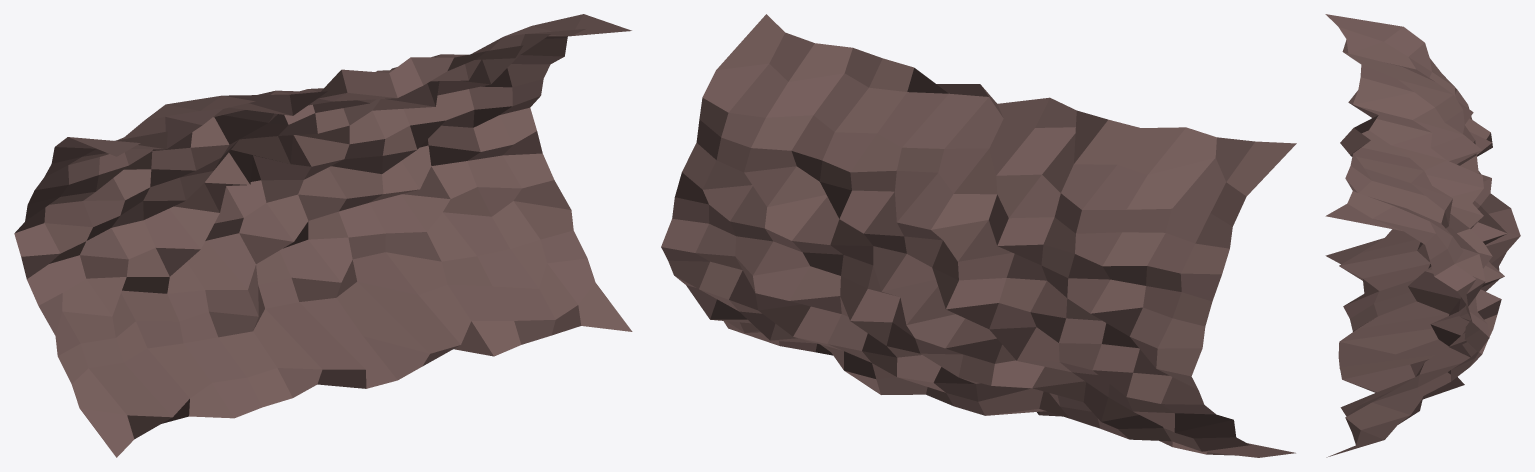
Rendered from Cave Wall - Double Sides.fbx.
The picture shows the model from 3 angles, left to right: view 1: azimuth 30°, elevation 25°; view 2: azimuth 150°, elevation 25°; view 3: azimuth 270°, elevation 25°; orthographic projection. The views are drawn at different scales.
Parts seen in each view (by area): view 1: Plane; view 2: Plane; view 3: Plane.
Part boxes in pixels (box(x1,y1,x2,y2)): Plane: box(14, 14, 632, 457); Plane: box(661, 14, 1296, 457); Plane: box(1325, 14, 1520, 457).
Bounding box in the file's own units: 3317 × 1850 × 1356.
